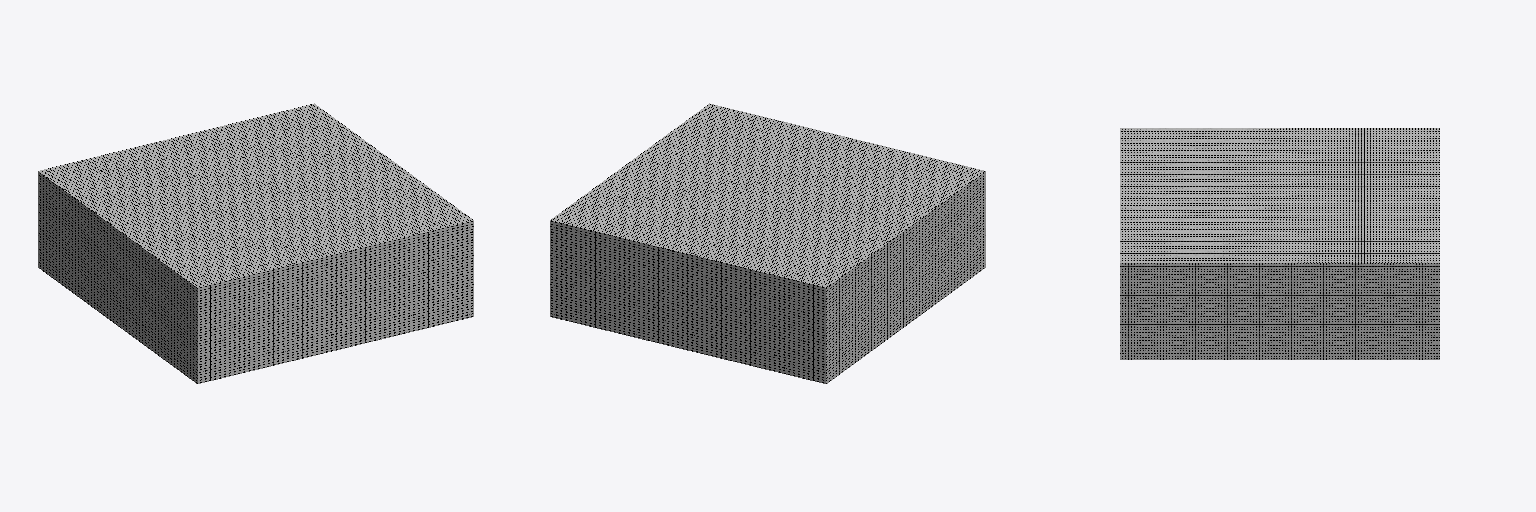
3 views of the same model, side by side, from view 1: azimuth 30°, elevation 25°; view 2: azimuth 150°, elevation 25°; view 3: azimuth 270°, elevation 25° (orthographic).
Visible parts, largest first — view 1: Plane; view 2: Plane; view 3: Plane.
Boxes of the visible parts, box(x1,y1,x2,y2) form: Plane: box(38, 103, 473, 383); Plane: box(550, 103, 985, 383); Plane: box(1120, 128, 1439, 359).
Bounding box in the file's own units: 12 × 5 × 12.
Materials: 2 (1 with a texture image).